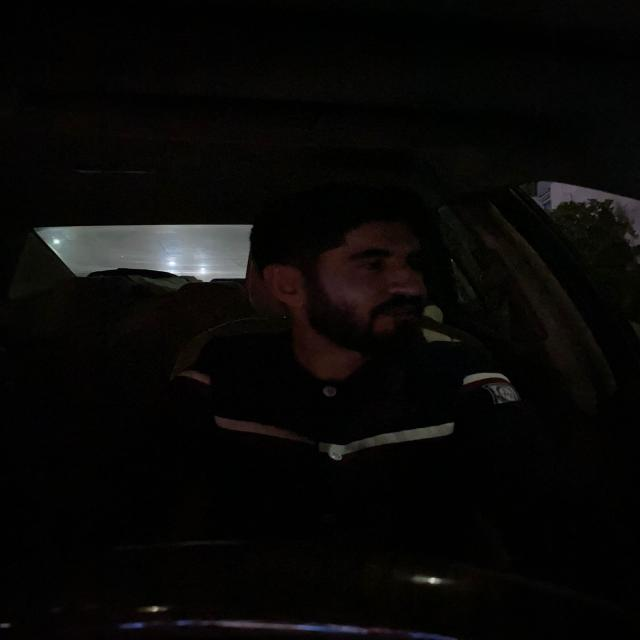person: (279, 202, 449, 344)
